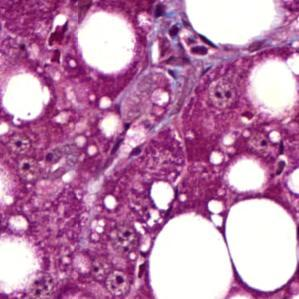steatosis: (221, 193, 297, 290)
